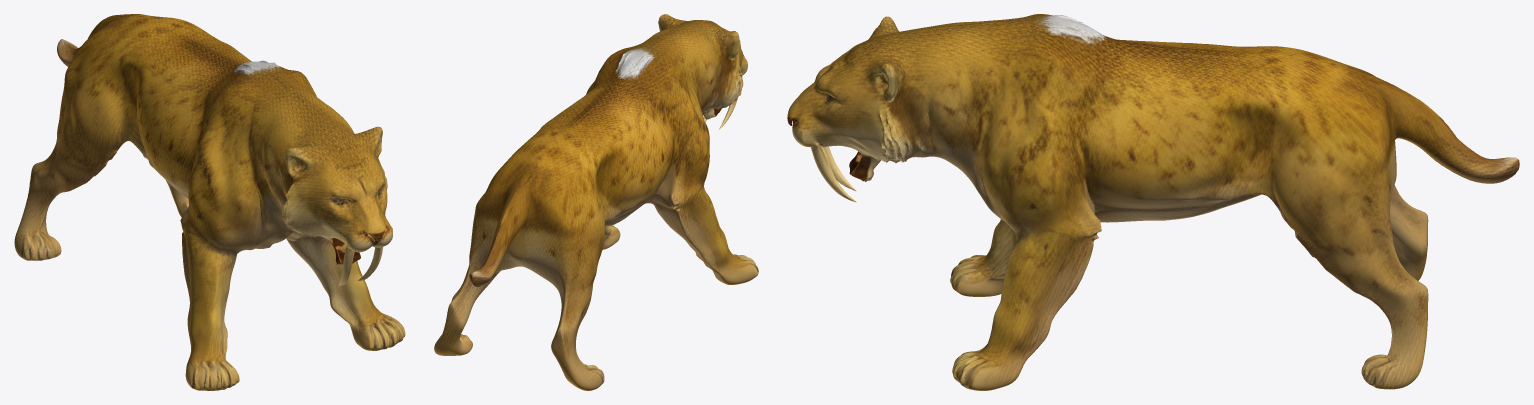
The model's file is saber-toothed_cat_ai.glb.
3 renders of one model, left to right at view 1: azimuth 30°, elevation 25°; view 2: azimuth 150°, elevation 25°; view 3: azimuth 270°, elevation 25°, orthographic. The views are drawn at different scales.
Parts seen in each view (by area): view 1: model_0; view 2: model_0; view 3: model_0.
Boxes of the visible parts, left/top/right/bottom form: model_0: left=14, top=14, right=405, bottom=390; model_0: left=434, top=14, right=758, bottom=390; model_0: left=787, top=14, right=1519, bottom=390.
Size of the model in its own units: 0.7363 by 0.9075 by 1.9.
Materials: 1 (1 with a texture image).
